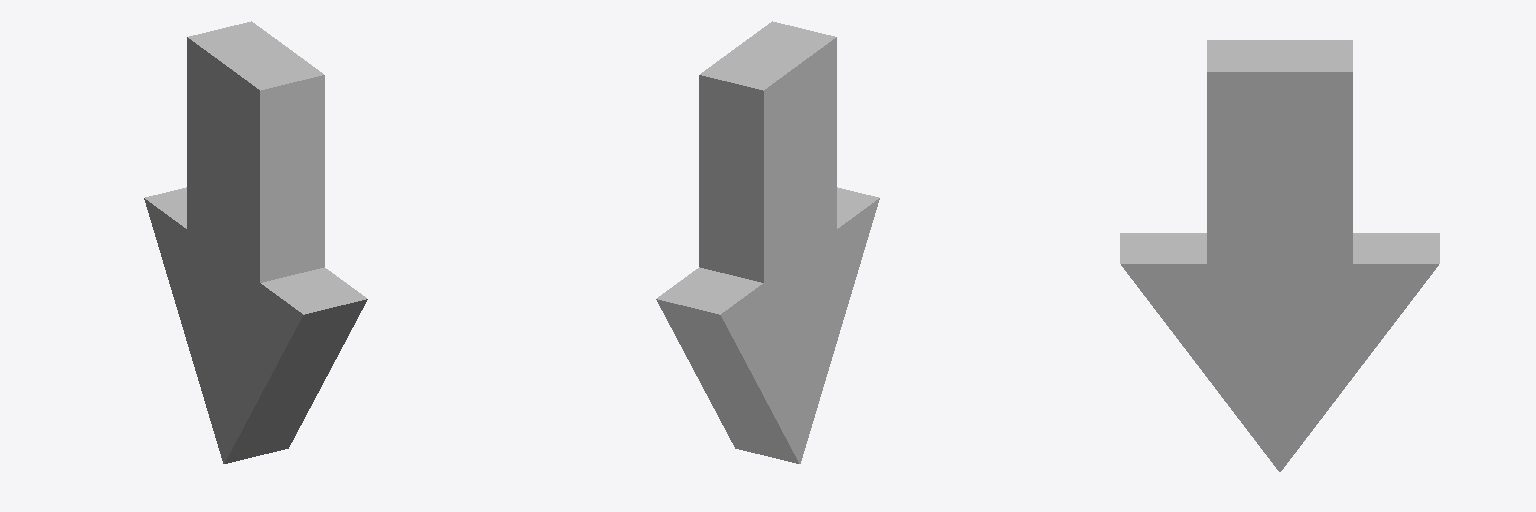
File: pointer.obj
3 renders of one model, left to right at view 1: azimuth 30°, elevation 25°; view 2: azimuth 150°, elevation 25°; view 3: azimuth 270°, elevation 25°, orthographic.
Parts seen in each view (by area): view 1: Cube_Cube.001; view 2: Cube_Cube.001; view 3: Cube_Cube.001.
Boxes of the visible parts, x1=… form: Cube_Cube.001: x1=144, y1=21, x2=367, y2=463; Cube_Cube.001: x1=656, y1=21, x2=879, y2=463; Cube_Cube.001: x1=1120, y1=40, x2=1439, y2=471.
Bounding box in the file's own units: 0.5886 × 3.49 × 2.52.